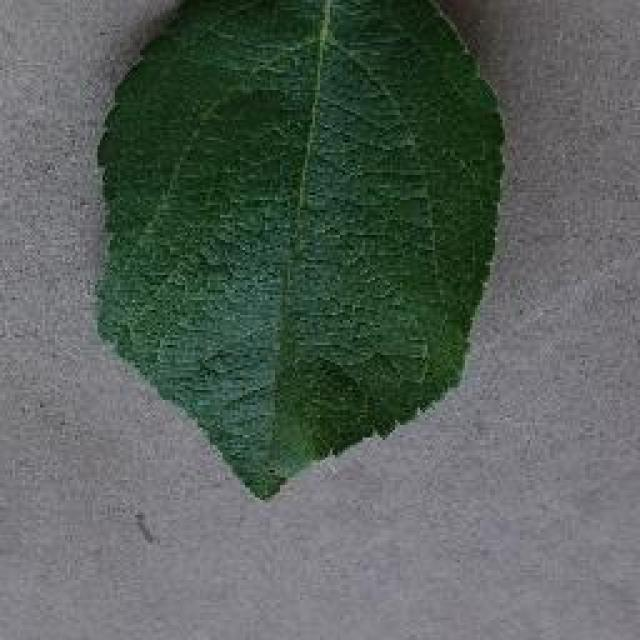apple healthy: (90, 0, 508, 500)
